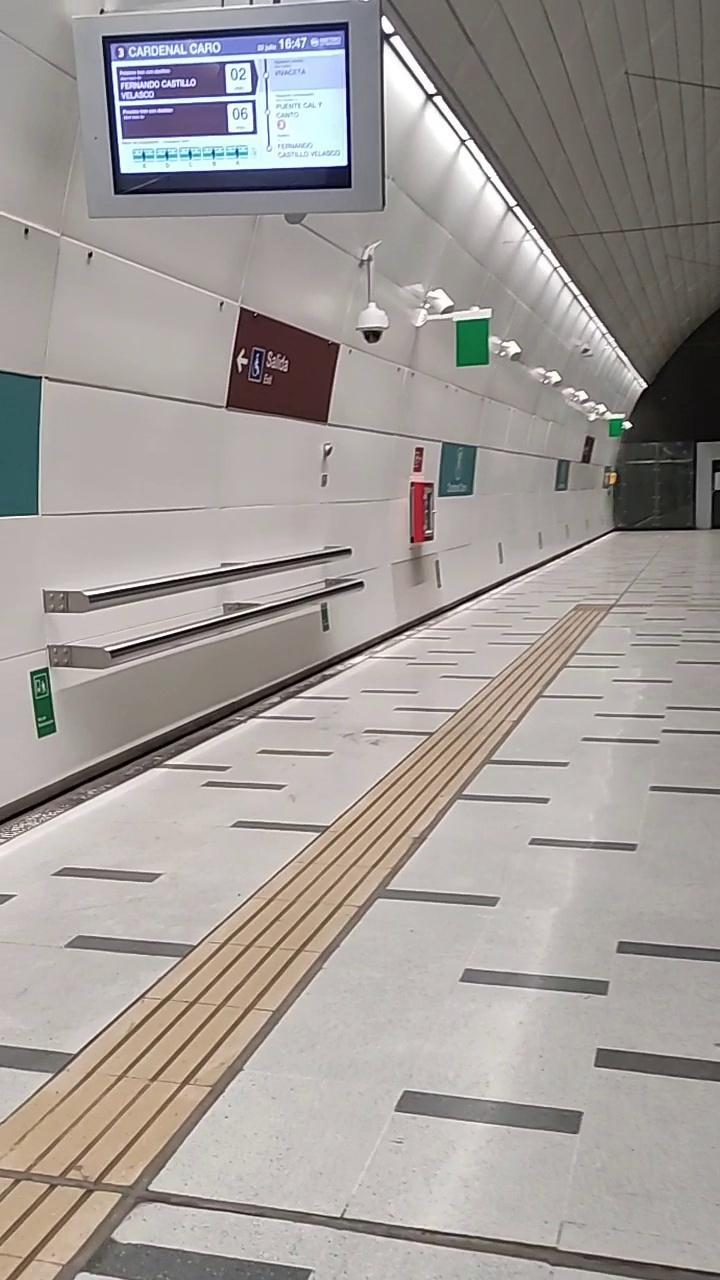handicapped symbol: (252, 352, 262, 377)
left arrow: (236, 348, 249, 373)
